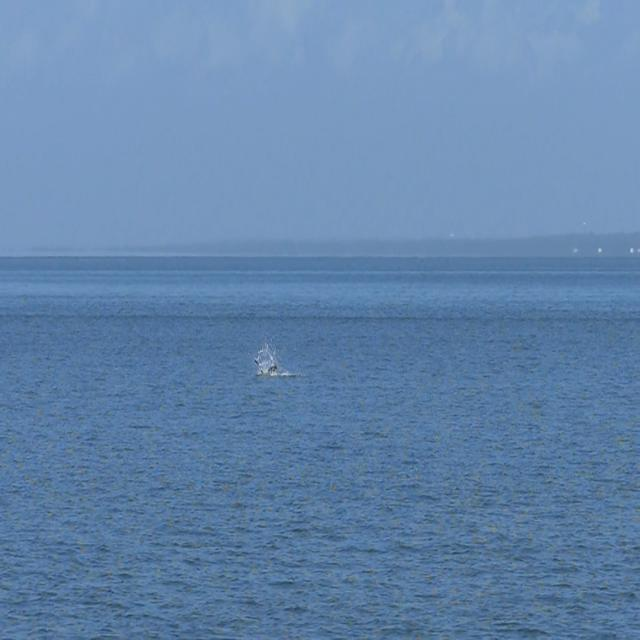bird: (250, 351, 281, 381)
